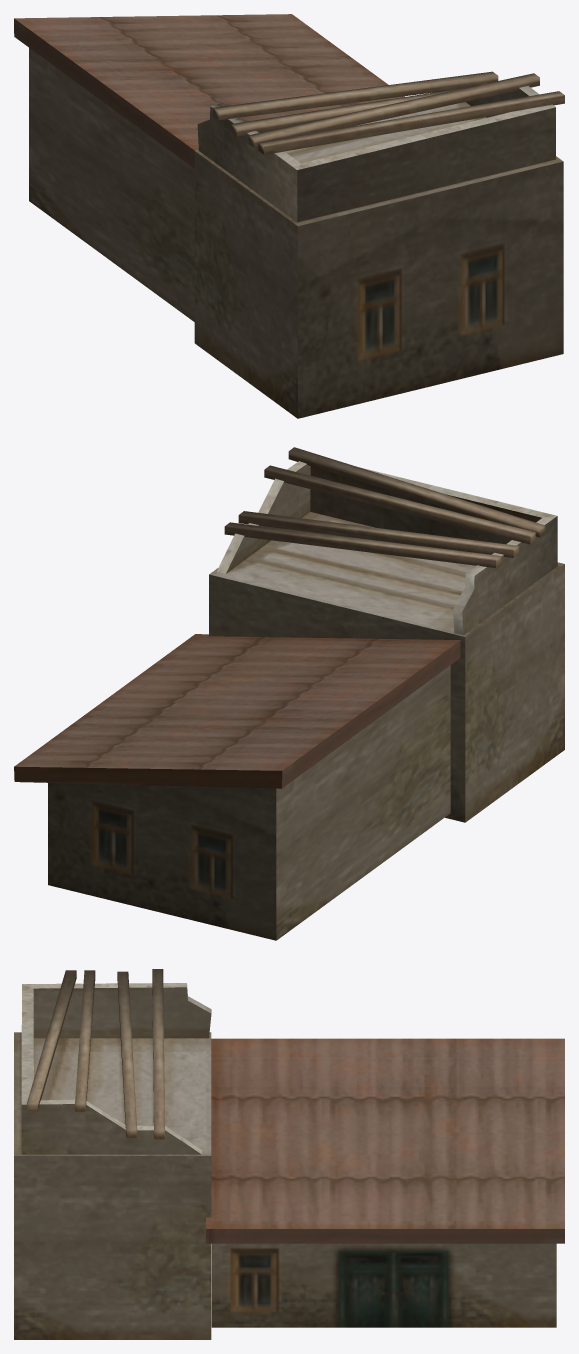
File: Desert_House_A_02.glb
3 renders of one model, top to bottom at view 1: azimuth 30°, elevation 25°; view 2: azimuth 150°, elevation 25°; view 3: azimuth 270°, elevation 25°, orthographic. The views are drawn at different scales.
Parts seen in each view (by area): view 1: Desert_House_A_02; view 2: Desert_House_A_02; view 3: Desert_House_A_02.
Boxes of the visible parts, box(x1,y1,x2,y2) form: Desert_House_A_02: box(14, 14, 564, 418); Desert_House_A_02: box(14, 447, 564, 940); Desert_House_A_02: box(14, 969, 564, 1339).
Bounding box in the file's own units: 1.7 × 1.44 × 2.94.
1 material, 1 textured.
